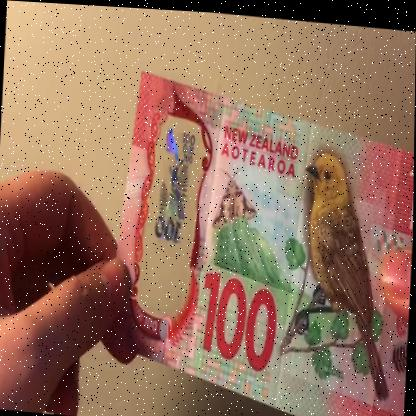100B: (151, 117, 198, 275)
